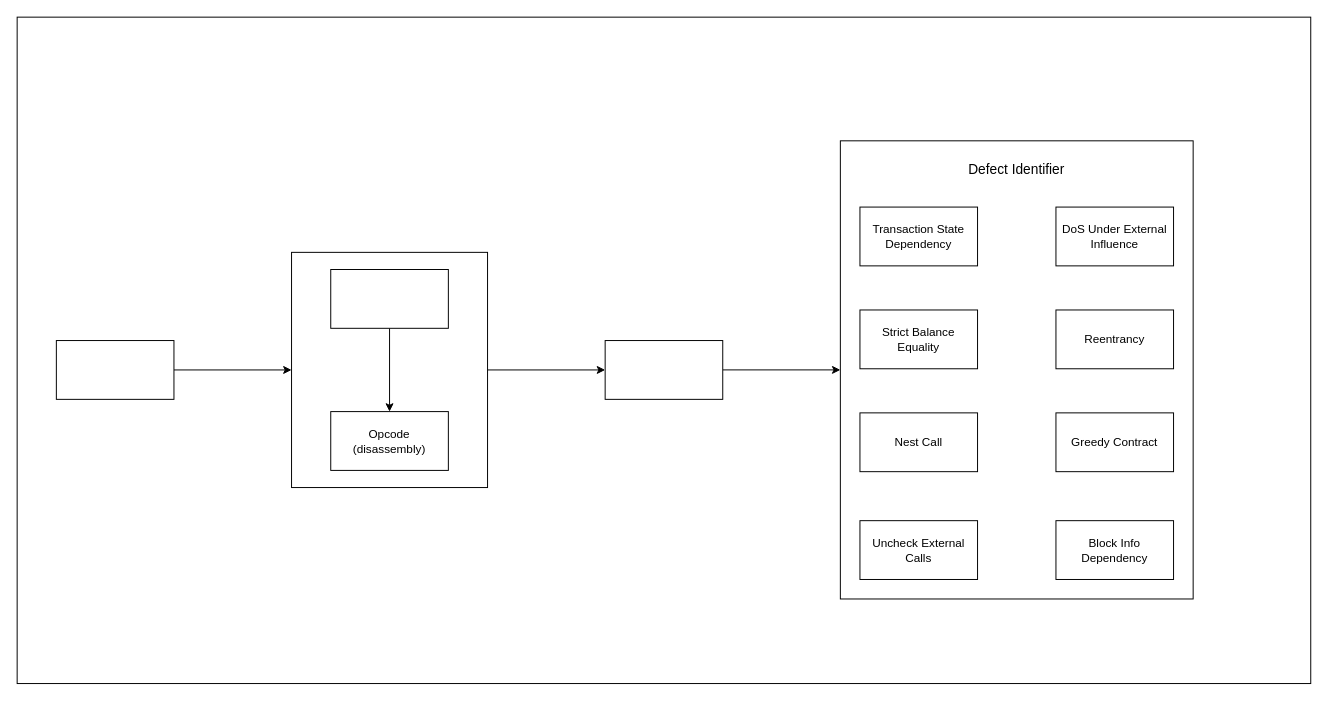
This 1328x701 diagram has some shape labels left out. Here are the shapes that lost their labels. From the top down, the box of each, then its label:
(330, 269, 448, 328): Bytecode
(55, 340, 174, 399): Smart Contracts
(604, 340, 723, 399): Smart Contracts Defect Checker Model
